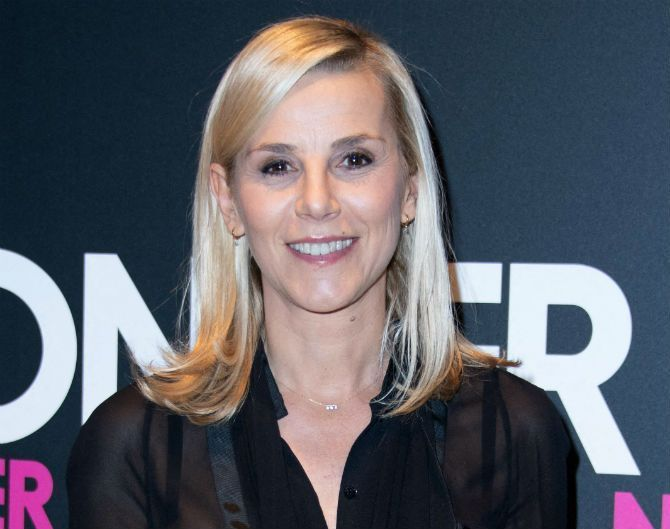without_mask: (235, 74, 407, 319)
